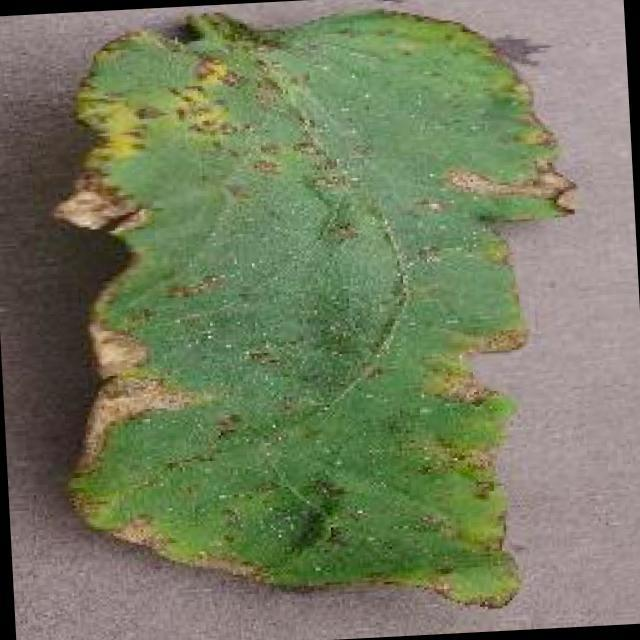Tomato bacterial spot leaf: (40, 0, 602, 636)
